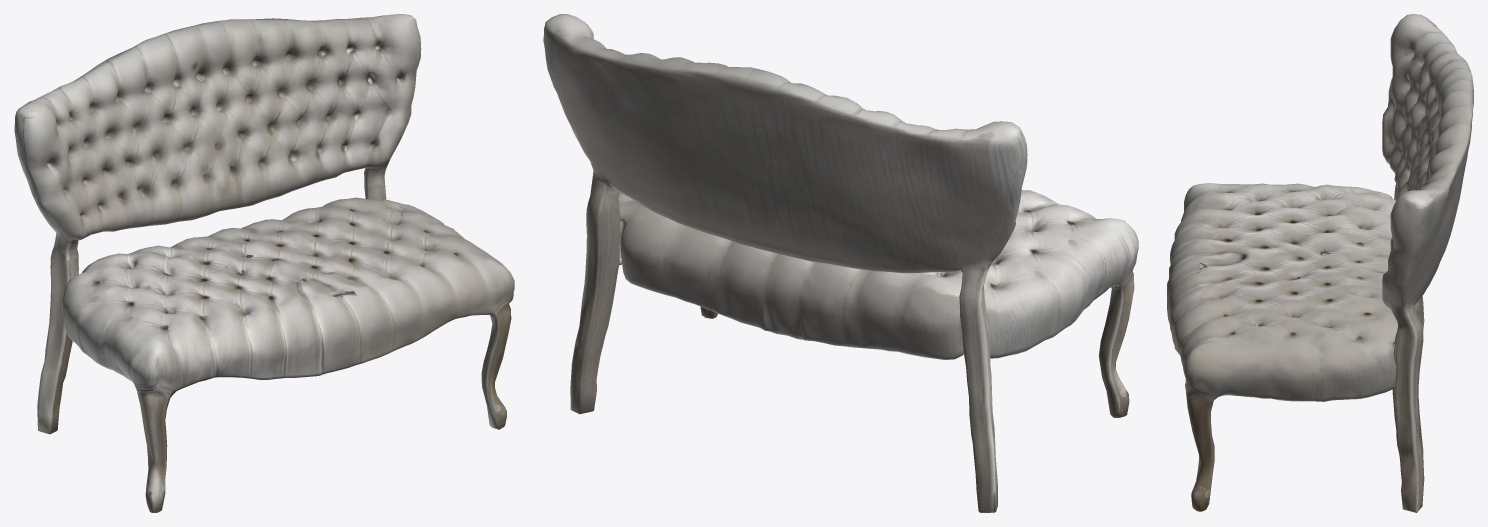
The model's file is beige_tufted_armless_loveseat_0428030754_texture.glb.
The picture shows the model from 3 angles, left to right: view 1: azimuth 30°, elevation 25°; view 2: azimuth 150°, elevation 25°; view 3: azimuth 270°, elevation 25°; orthographic projection. The views are drawn at different scales.
Visible parts, largest first — view 1: Mesh_0.002; view 2: Mesh_0.002; view 3: Mesh_0.002.
Part boxes in pixels (box(x1,y1,x2,y2)): Mesh_0.002: box(14, 14, 514, 512); Mesh_0.002: box(543, 14, 1138, 512); Mesh_0.002: box(1167, 14, 1473, 512).
Size of the model in its own units: 1.12 by 0.9144 by 0.7517.
Materials: 1 (1 with a texture image).
